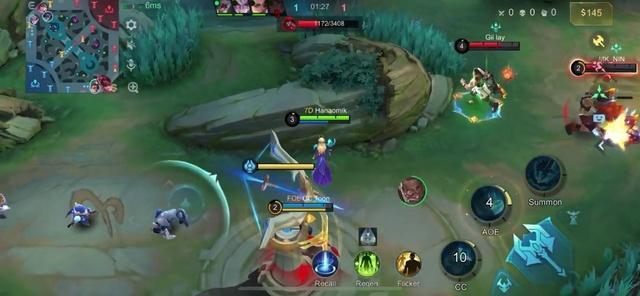Adc_Aliado: (89, 83, 99, 92)
Adc_Enemigo: (103, 84, 112, 92)
Arbusto: (361, 9, 467, 74), (121, 0, 201, 85), (560, 245, 639, 295)
Balmont: (460, 67, 501, 110)
Energia: (283, 208, 333, 211)
Esbirro_Aliado: (152, 208, 188, 238), (68, 203, 93, 226)
Exp_Aliado: (29, 14, 41, 24)
Exp_Enemigo: (38, 4, 46, 12)
HP_Aliado: (283, 204, 333, 208)
HP_Enemigo: (586, 65, 637, 70), (469, 42, 519, 47)
HP_Heroe_Principal: (300, 116, 349, 120)
Hechizo_Batalla: (396, 251, 421, 276)
Jungla_Aliado: (40, 12, 55, 21)
Jungla_Enemigo: (97, 73, 105, 82)
Mana: (299, 121, 350, 123)
Mid_Aliado: (91, 78, 100, 85)
Minimapa: (24, 1, 119, 94)
Minotauro: (566, 90, 623, 133)
Roamer_Enemigo: (101, 76, 110, 85)
Torre_Aliada: (257, 205, 339, 295), (288, 170, 328, 202), (269, 131, 296, 163)
Vexana: (312, 136, 331, 185)
